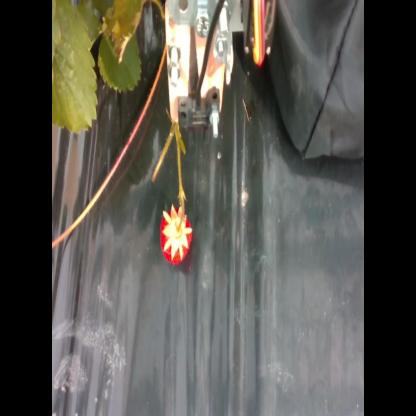ripe: (158, 204, 196, 268)
